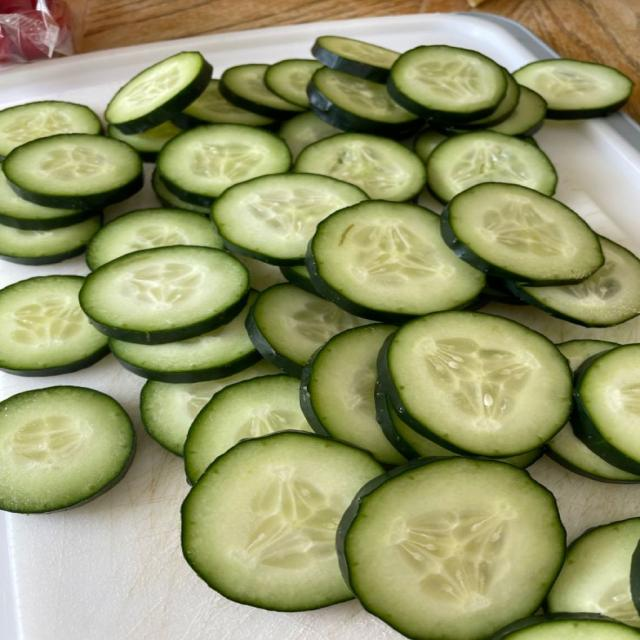cucumber sliced: (337, 458, 565, 639), (182, 432, 382, 611), (379, 312, 573, 457), (307, 201, 485, 322), (0, 387, 134, 513), (441, 183, 604, 285), (80, 246, 248, 344), (300, 324, 406, 465), (184, 374, 313, 484), (212, 173, 366, 264), (109, 292, 260, 382), (140, 361, 278, 456), (507, 237, 639, 326), (247, 283, 366, 377), (157, 124, 291, 206), (0, 276, 108, 375), (3, 134, 142, 210), (546, 518, 639, 627), (427, 131, 557, 202), (387, 46, 506, 123), (294, 134, 426, 201), (106, 52, 213, 133), (573, 344, 639, 474), (87, 209, 222, 270), (308, 68, 421, 138), (514, 59, 633, 119), (375, 381, 457, 459), (0, 164, 95, 230), (0, 101, 101, 157), (546, 424, 639, 482), (0, 214, 101, 264), (174, 79, 273, 128), (220, 64, 305, 119), (312, 36, 399, 83), (490, 613, 639, 639), (460, 68, 520, 129), (107, 121, 182, 161), (280, 112, 342, 160), (489, 86, 546, 136), (264, 59, 322, 108), (152, 169, 210, 215)
